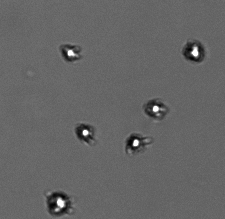Living Cell: (46, 189, 73, 215), (182, 38, 205, 63), (143, 97, 167, 118), (60, 41, 82, 63), (75, 122, 95, 143), (125, 132, 145, 153)
